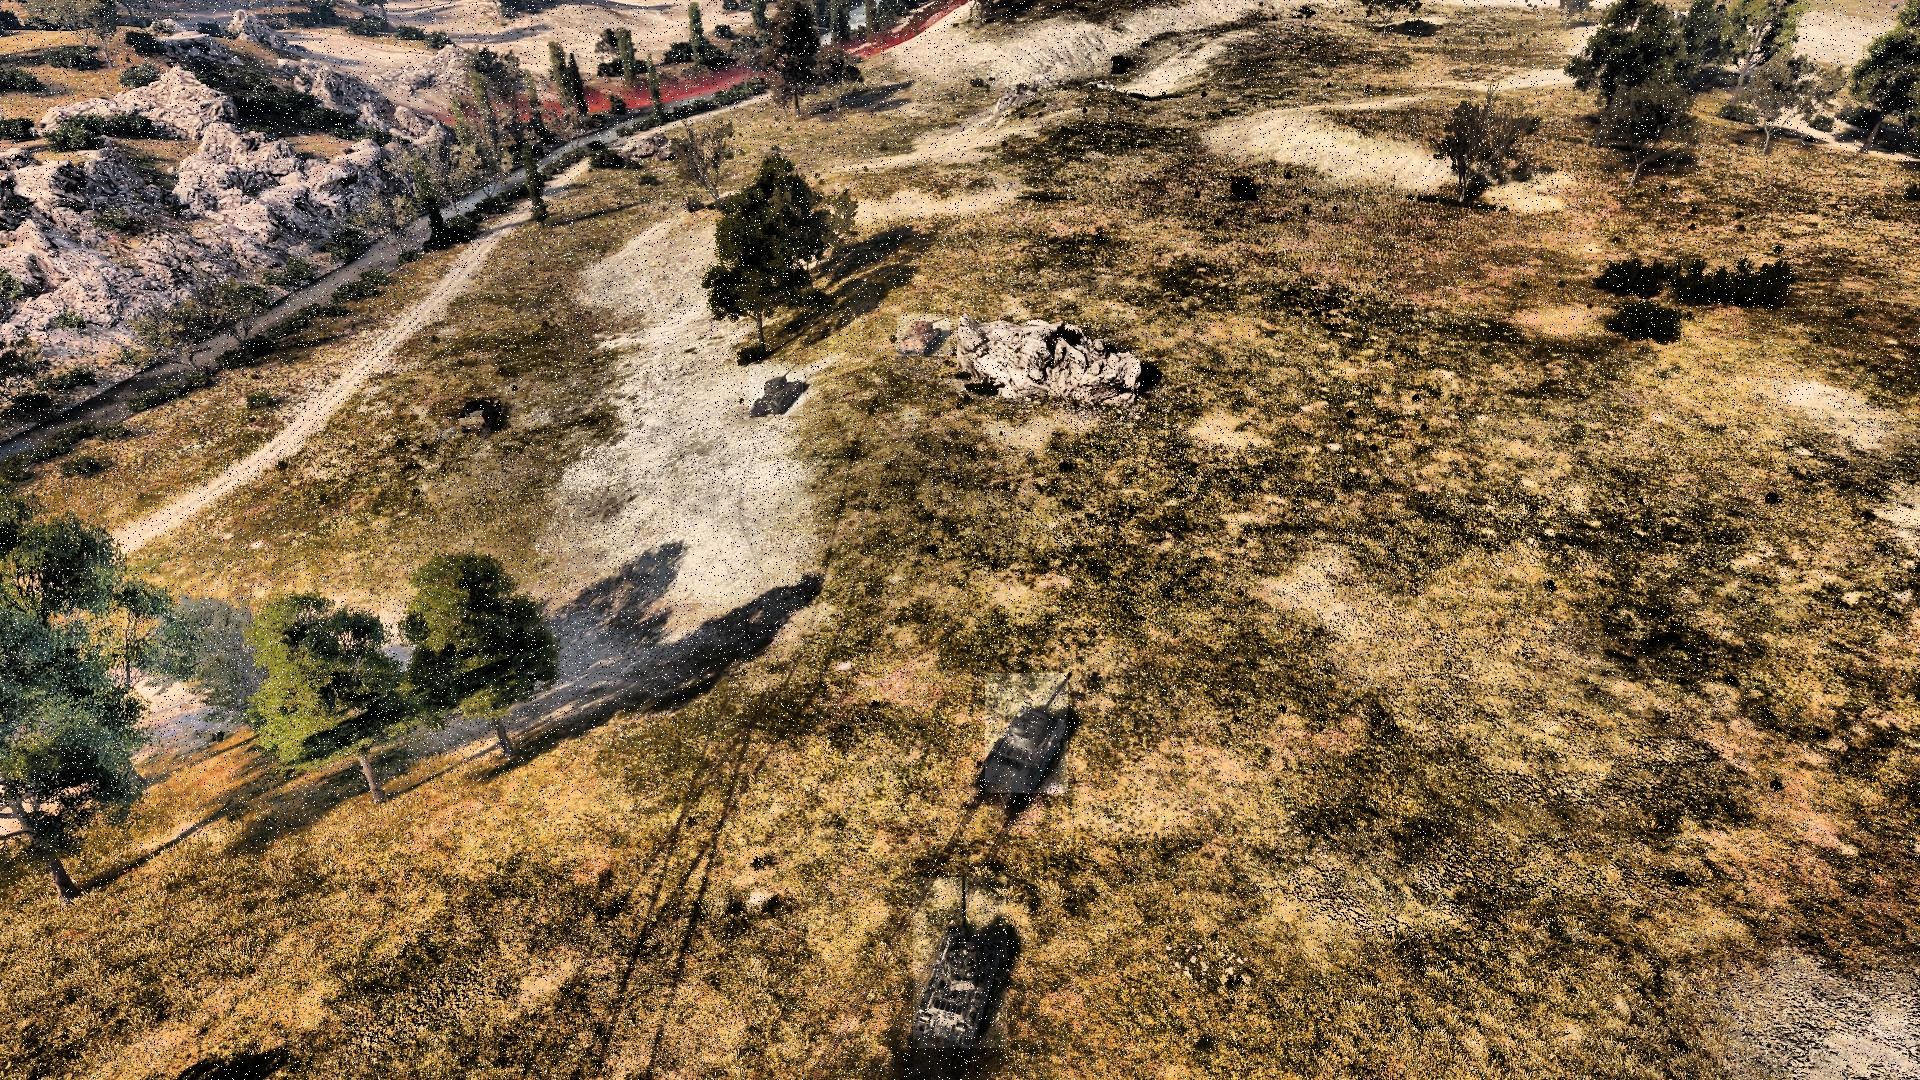military-vehicle: (913, 877, 1007, 1048), (985, 674, 1068, 794), (750, 364, 804, 417), (898, 314, 951, 356), (455, 397, 502, 434), (1230, 177, 1257, 200)
